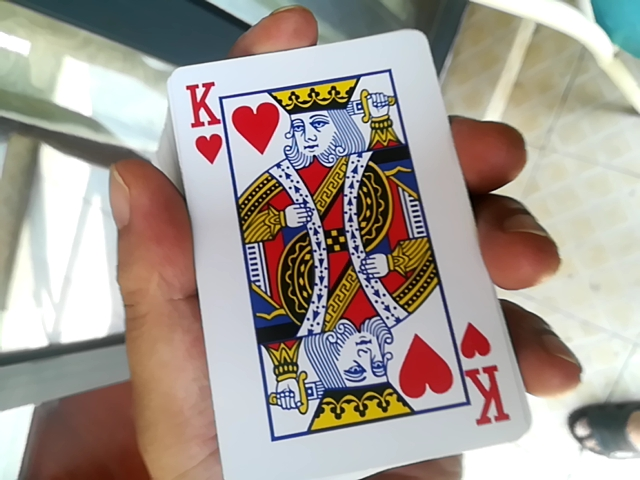hx k: (159, 27, 516, 479)
